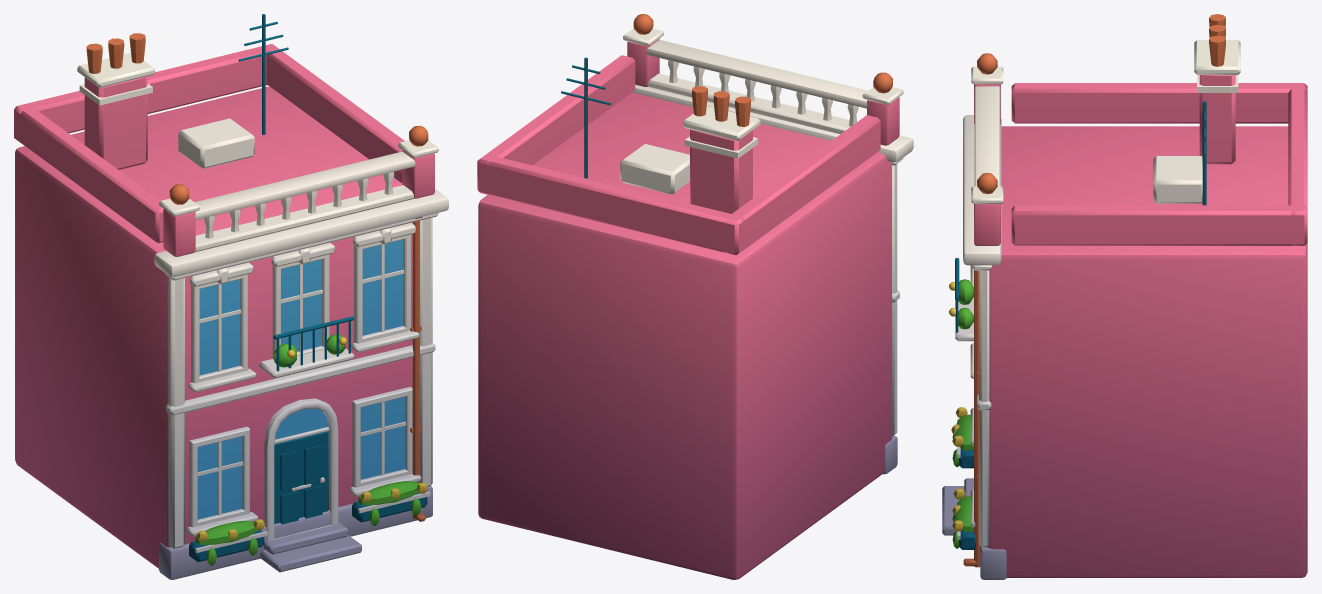
The model's file is house_d.glb.
3 views of the same model, side by side, from view 1: azimuth 30°, elevation 25°; view 2: azimuth 150°, elevation 25°; view 3: azimuth 270°, elevation 25° (orthographic). The views are drawn at different scales.
Parts seen in each view (by area): view 1: house_d; view 2: house_d; view 3: house_d.
Boxes of the visible parts, left/top/right/bottom form: house_d: left=14, top=14, right=448, bottom=579; house_d: left=477, top=14, right=913, bottom=579; house_d: left=942, top=14, right=1307, bottom=579.
Bounding box in the file's own units: 5.14 × 7.75 × 5.68.
